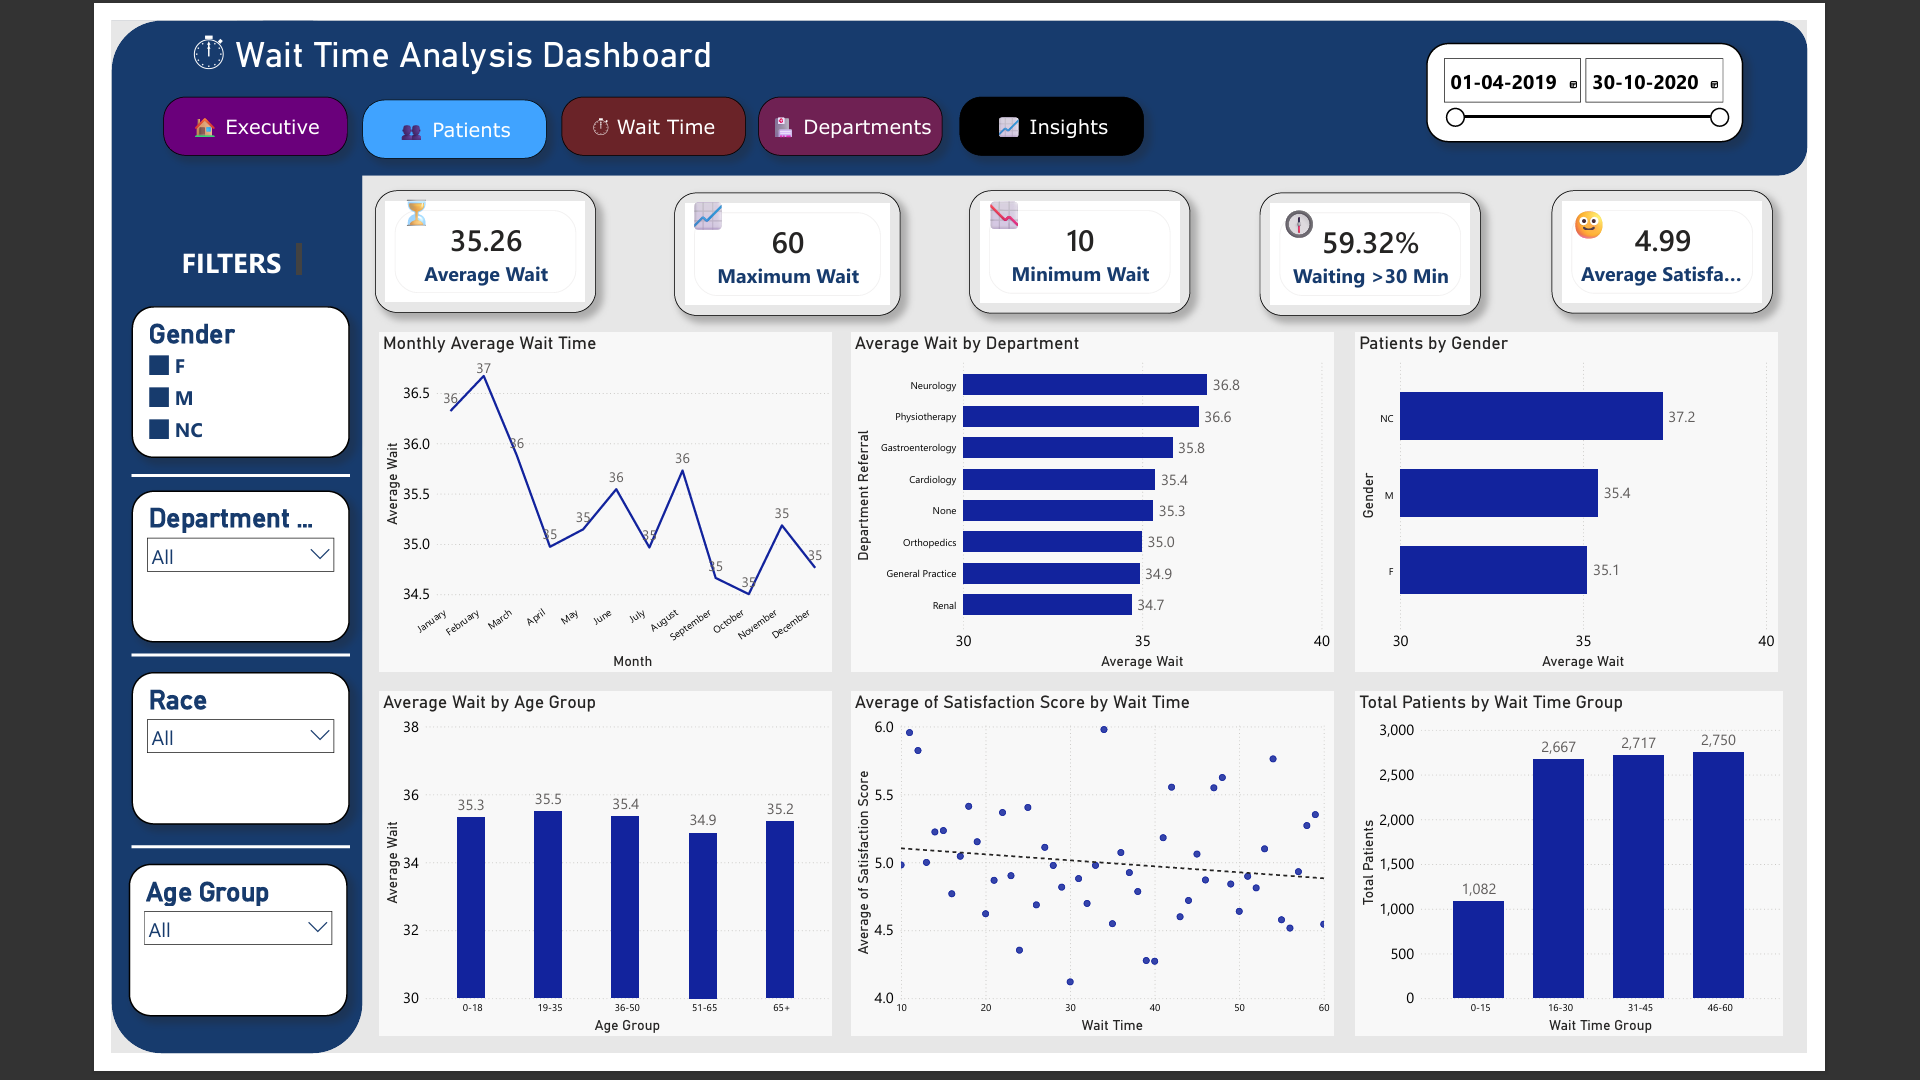

Layout of this report page (visuals, bound fields, positions):
{"tool":"powerbi","page":{"name":"Wait Time Analysis","canvas":[2300,1400],"ordinal":2},"visuals":[{"type":"shape","box":[170,0,2130,210],"z":0},{"type":"clusteredColumnChart","fields":{"Y":["Hospital ER.Total Patients"],"Category":["Hospital ER.Wait Time Group"]},"box":[1686.7,910,580,466.7],"z":1000},{"type":"cardVisual","fields":{"Data":["Hospital ER.Average Wait"]},"box":[356.7,230,300,166.1],"z":2000},{"type":"shape","box":[0,0,340,1400],"z":3000},{"type":"textbox","box":[90,0,1153.3,113.3],"z":4000},{"type":"cardVisual","fields":{"Data":["Hospital ER.Maximum Wait"]},"box":[763.3,233.3,306.7,166.7],"z":5000},{"type":"slicer","fields":{"Values":["Hospital ER.Gender"]},"box":[26.7,386.7,296.7,206.7],"z":6000},{"type":"cardVisual","fields":{"Data":["Hospital ER.Minimum Wait"]},"box":[1163.3,230,300,166.7],"z":7000},{"type":"slicer","fields":{"Values":["Hospital ER.Department Referral"]},"box":[26.7,636.7,296.7,206.7],"z":8000},{"type":"slicer","fields":{"Values":["Hospital ER.Race"]},"box":[26.7,883.3,296.7,206.7],"z":9000},{"type":"slicer","fields":{"Values":["Hospital ER.Age Group"]},"box":[23.3,1143.3,296.7,206.7],"z":10000},{"type":"shape","box":[26.7,560,296.7,113.3],"z":11000},{"type":"shape","box":[26.7,1063.3,296.7,113.3],"z":12000},{"type":"shape","box":[26.7,803.3,296.7,113.3],"z":13000},{"type":"textbox","box":[90,296.7,173.3,56.7],"z":14000},{"type":"barChart","title":"Patients by Gender","fields":{"Category":["Hospital ER.Gender"],"Y":["Hospital ER.Average Wait"]},"box":[1686.7,423.3,573.3,460],"z":15000},{"type":"textbox","box":[383.3,230,73.3,80],"z":16000},{"type":"textbox","box":[778.3,233.3,163.3,76.7],"z":17000},{"type":"lineChart","title":"Monthly Average Wait Time","fields":{"Category":["Hospital ER.Date.Variation.Date Hierarchy.Month"],"Y":["Hospital ER.Average Wait"]},"box":[363.3,423.3,613.3,460],"z":18000},{"type":"textbox","box":[1180,231.7,163.3,86.7],"z":19000},{"type":"clusteredBarChart","title":"Average Wait by Department","fields":{"Category":["Hospital ER.Department Referral"],"Y":["Hospital ER.Average Wait"]},"box":[1003.3,423.3,653.3,460],"z":20000},{"type":"slicer","fields":{"Values":["Hospital ER.Date"]},"box":[1782.5,30,430,135],"z":21000},{"type":"actionButton","box":[340,106.7,250,80],"z":22000},{"type":"actionButton","box":[610,103.3,250,80],"z":23000},{"type":"actionButton","box":[876.7,103.3,250,80],"z":24000},{"type":"actionButton","box":[1150,103.3,250,80],"z":25000},{"type":"actionButton","box":[70,102.5,250,80],"z":26000},{"type":"cardVisual","fields":{"Data":["Hospital ER.Waiting >30 Min"]},"box":[1556.7,233.3,300,166.7],"z":27000},{"type":"cardVisual","fields":{"Data":["Hospital ER.Average Satisfaction"]},"box":[1953.3,230,300,166.7],"z":28000},{"type":"textbox","box":[1580,244,202,82],"z":29000},{"type":"textbox","box":[1972.5,245,220,82.5],"z":30000},{"type":"scatterChart","fields":{"X":["Hospital ER.Wait Time"],"Y":["Avg(Hospital ER.Satisfaction Score)"]},"box":[1003.3,910,653.3,466.7],"z":31000},{"type":"clusteredColumnChart","fields":{"Y":["Hospital ER.Average Wait"],"Category":["Hospital ER.Age Group"]},"box":[363.3,910,613.3,466.7],"z":32000}]}

Visuals, with their boxes on the page's 2300x1400 design canvas (x1, y1, x2, y2). These are canvas units, not pixel positions in the 1920x1080 screenshot, which may show the page scaled, cropped or inside an application window:
shape: box(170, 0, 2300, 210)
clusteredColumnChart - Hospital ER.Total Patients x Hospital ER.Wait Time Group: box(1687, 910, 2267, 1377)
cardVisual - Hospital ER.Average Wait: box(357, 230, 657, 396)
shape: box(0, 0, 340, 1400)
textbox: box(90, 0, 1243, 113)
cardVisual - Hospital ER.Maximum Wait: box(763, 233, 1070, 400)
slicer - Hospital ER.Gender: box(27, 387, 323, 593)
cardVisual - Hospital ER.Minimum Wait: box(1163, 230, 1463, 397)
slicer - Hospital ER.Department Referral: box(27, 637, 323, 843)
slicer - Hospital ER.Race: box(27, 883, 323, 1090)
slicer - Hospital ER.Age Group: box(23, 1143, 320, 1350)
shape: box(27, 560, 323, 673)
shape: box(27, 1063, 323, 1177)
shape: box(27, 803, 323, 917)
textbox: box(90, 297, 263, 353)
"Patients by Gender" barChart: box(1687, 423, 2260, 883)
textbox: box(383, 230, 457, 310)
textbox: box(778, 233, 942, 310)
"Monthly Average Wait Time" lineChart: box(363, 423, 977, 883)
textbox: box(1180, 232, 1343, 318)
"Average Wait by Department" clusteredBarChart: box(1003, 423, 1657, 883)
slicer - Hospital ER.Date: box(1782, 30, 2212, 165)
actionButton: box(340, 107, 590, 187)
actionButton: box(610, 103, 860, 183)
actionButton: box(877, 103, 1127, 183)
actionButton: box(1150, 103, 1400, 183)
actionButton: box(70, 102, 320, 182)
cardVisual - Hospital ER.Waiting >30 Min: box(1557, 233, 1857, 400)
cardVisual - Hospital ER.Average Satisfaction: box(1953, 230, 2253, 397)
textbox: box(1580, 244, 1782, 326)
textbox: box(1972, 245, 2192, 328)
scatterChart - Hospital ER.Wait Time x Avg(Hospital ER.Satisfaction Score): box(1003, 910, 1657, 1377)
clusteredColumnChart - Hospital ER.Average Wait x Hospital ER.Age Group: box(363, 910, 977, 1377)
